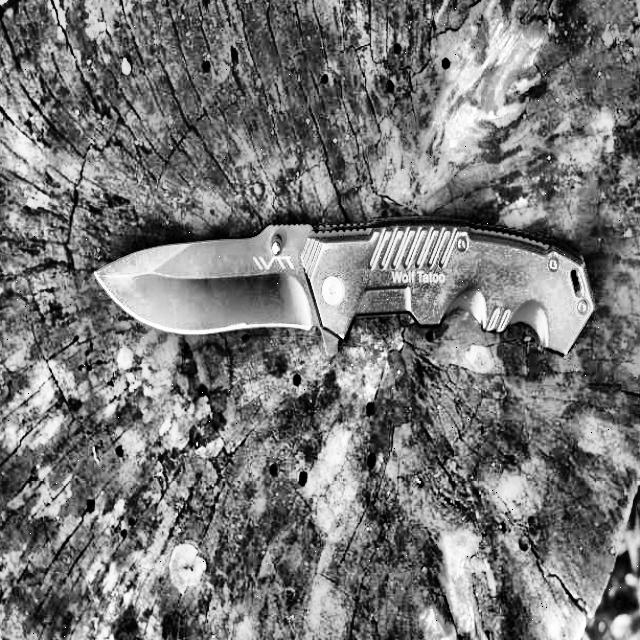knife: (89, 225, 602, 359)
